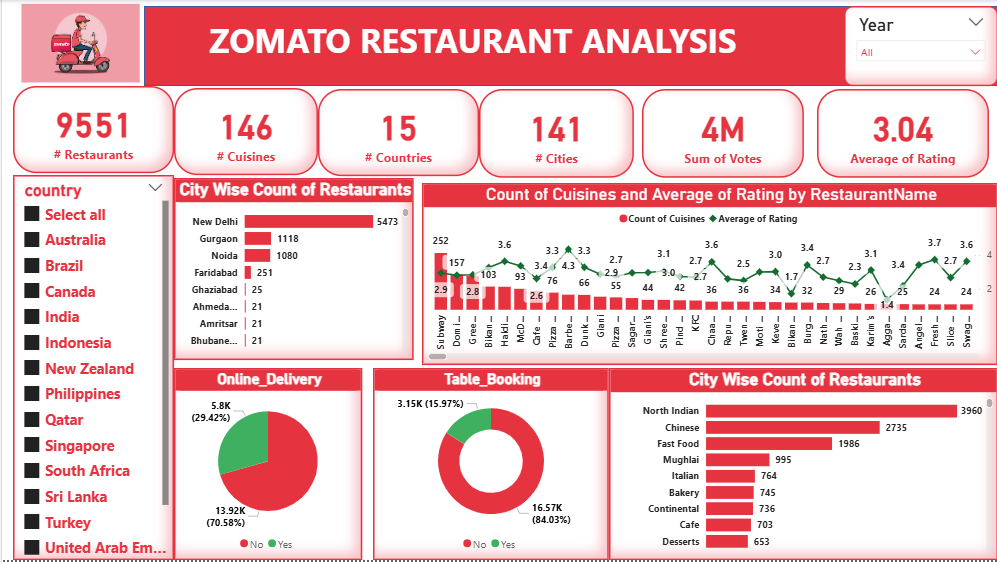

The page's visual inventory and layout, read from the dashboard file:
{"tool":"powerbi","page":{"name":"Page 1","canvas":[1280,720],"ordinal":0},"visuals":[{"type":"card","fields":{"Values":["Count(Sheet1.RestaurantID)"]},"box":[14.1,110.5,206.9,111.8],"z":0},{"type":"shape","box":[182.5,7.7,1097.5,102.8],"z":1000},{"type":"textbox","box":[242.9,16.7,724.8,72],"z":2000},{"type":"image","box":[0,0,201.8,110.5],"z":3000},{"type":"card","fields":{"Values":["Count(Sheet1.Cuisines)"]},"box":[221,113.1,185.1,111.8],"z":4000},{"type":"card","fields":{"Values":["Count(Sheet1.City)"]},"box":[613,114.4,199.2,114.4],"z":5000},{"type":"card","fields":{"Values":["Sum(Sheet1.Votes)"]},"box":[822.5,114.4,208.2,114.4],"z":6000},{"type":"card","fields":{"Values":["Count(Sheet1.CountryCode)"]},"box":[406.1,114.4,206.9,111.8],"z":7000},{"type":"card","fields":{"Values":["Avg(Sheet1.Rating)"]},"box":[1047.4,114.4,221,114.4],"z":8000},{"type":"slicer","fields":{"Values":["Sheet2.country name"]},"box":[14.1,224.9,206.9,494.8],"z":9000},{"type":"clusteredBarChart","title":"City Wise Count of  Restaurants","fields":{"Category":["Sheet1.City"],"Y":["Count(Sheet1.RestaurantID)"]},"box":[221,228.8,308.4,233.9],"z":10000},{"type":"lineStackedColumnComboChart","fields":{"Category":["Sheet1.RestaurantName"],"Y":["CountNonNull(Sheet1.Cuisines)"],"Y2":["Avg(Sheet1.Rating)"]},"box":[539.8,235.2,740.2,233.9],"z":11000},{"type":"pieChart","title":"Online_Delivery","fields":{"Category":["Sheet1.Has_Online_delivery"],"Y":["CountNonNull(Sheet1.Has_Online_delivery)"]},"box":[221,472.9,241.6,246.7],"z":12000},{"type":"donutChart","title":"Table_Booking","fields":{"Category":["Sheet1.Has_Table_booking"],"Y":["CountNonNull(Sheet1.Has_Table_booking)"]},"box":[476.8,472.9,303.3,246.7],"z":13000},{"type":"clusteredBarChart","title":"Cuisine Wise Count of Restaurnats","fields":{"Category":["Sheet1.Cuisines"],"Y":["CountNonNull(Sheet1.Cuisines)"]},"box":[780.1,472.9,499.9,246.7],"z":14000},{"type":"slicer","fields":{"Values":["Sheet1.Year"]},"box":[1082.1,7.7,197.9,102.8],"z":15000}]}

Visuals, with their boxes in screenshot pixels (x1, y1, x2, y2), scaled from the page's 1280x720 canvas onto the 997x562 screenshot:
card - Count(Sheet1.RestaurantID): (left=11, top=86, right=172, bottom=174)
shape: (left=142, top=6, right=996, bottom=86)
textbox: (left=189, top=13, right=754, bottom=69)
image: (left=0, top=0, right=157, bottom=86)
card - Count(Sheet1.Cuisines): (left=172, top=88, right=316, bottom=176)
card - Count(Sheet1.City): (left=477, top=89, right=633, bottom=179)
card - Sum(Sheet1.Votes): (left=641, top=89, right=803, bottom=179)
card - Count(Sheet1.CountryCode): (left=316, top=89, right=477, bottom=177)
card - Avg(Sheet1.Rating): (left=816, top=89, right=988, bottom=179)
slicer - Sheet2.country name: (left=11, top=176, right=172, bottom=561)
"City Wise Count of  Restaurants" clusteredBarChart: (left=172, top=179, right=412, bottom=361)
lineStackedColumnComboChart - Sheet1.RestaurantName x CountNonNull(Sheet1.Cuisines): (left=420, top=184, right=996, bottom=366)
"Online_Delivery" pieChart: (left=172, top=369, right=360, bottom=561)
"Table_Booking" donutChart: (left=371, top=369, right=608, bottom=561)
"Cuisine Wise Count of Restaurnats" clusteredBarChart: (left=608, top=369, right=996, bottom=561)
slicer - Sheet1.Year: (left=843, top=6, right=996, bottom=86)
